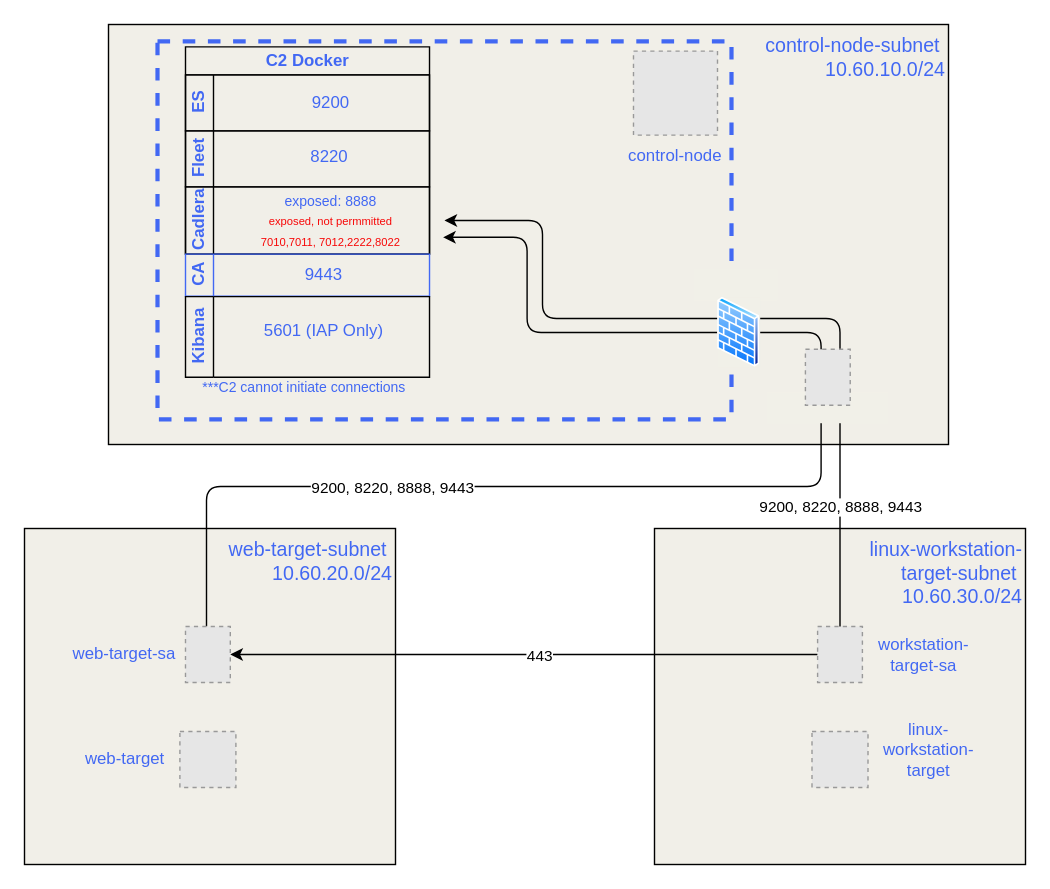
Image size: 1050x889. Some labels were removed from this diagram. Grey dashed boxes stand in for pictures. The centre of each missing label's shape, as x and y in pixels:
"control-node-sa" goes at point 827,407.
"nftables" goes at point 735,284.
